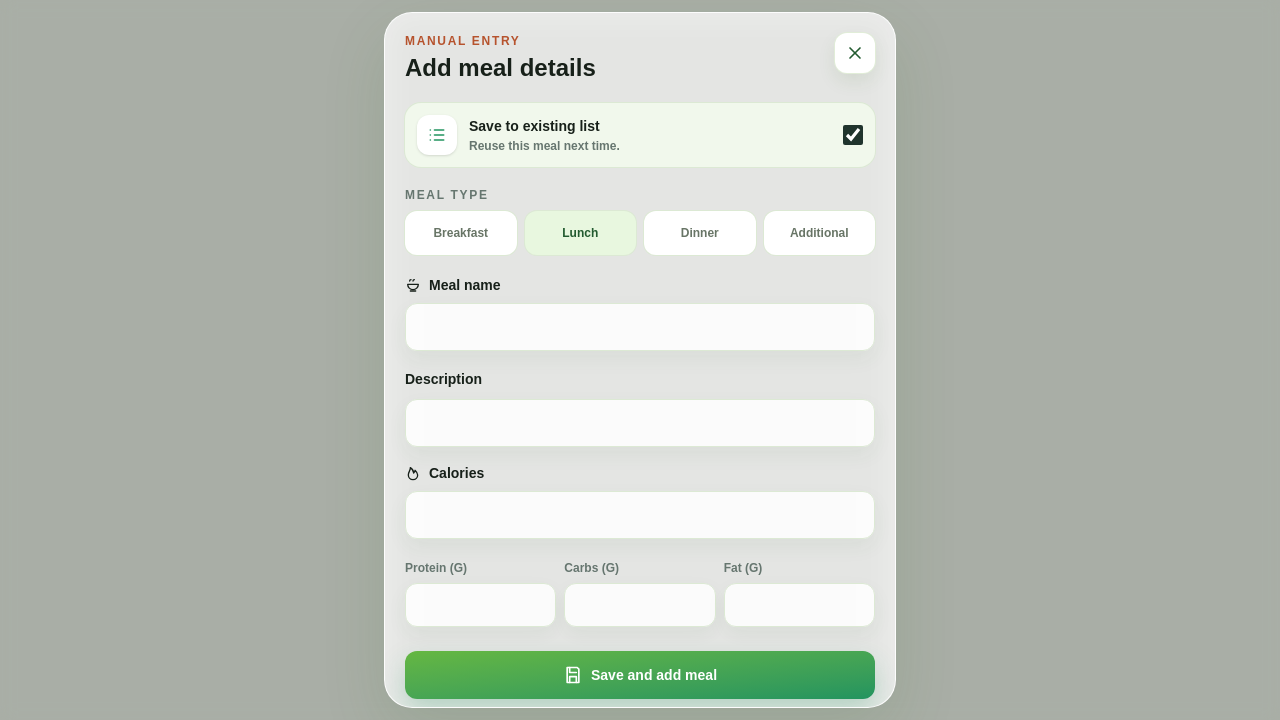
AddManualMeal › reports a partial save without attempting another daily log
Type "Chicken salad" into the field labelled "Meal name".
click(640, 327); type("Chicken salad")  # box [405,303,875,351]
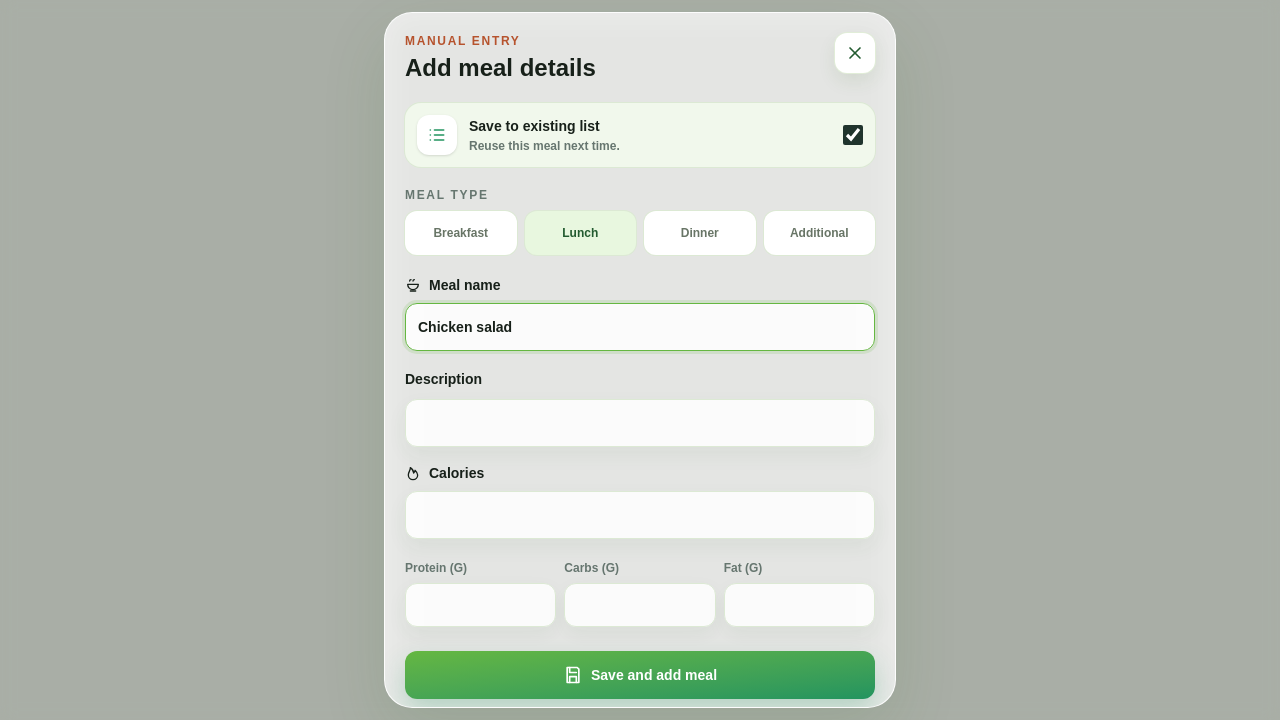
Type "380" into the number field labelled "Calories".
click(640, 515); type("380")  # box [405,491,875,539]
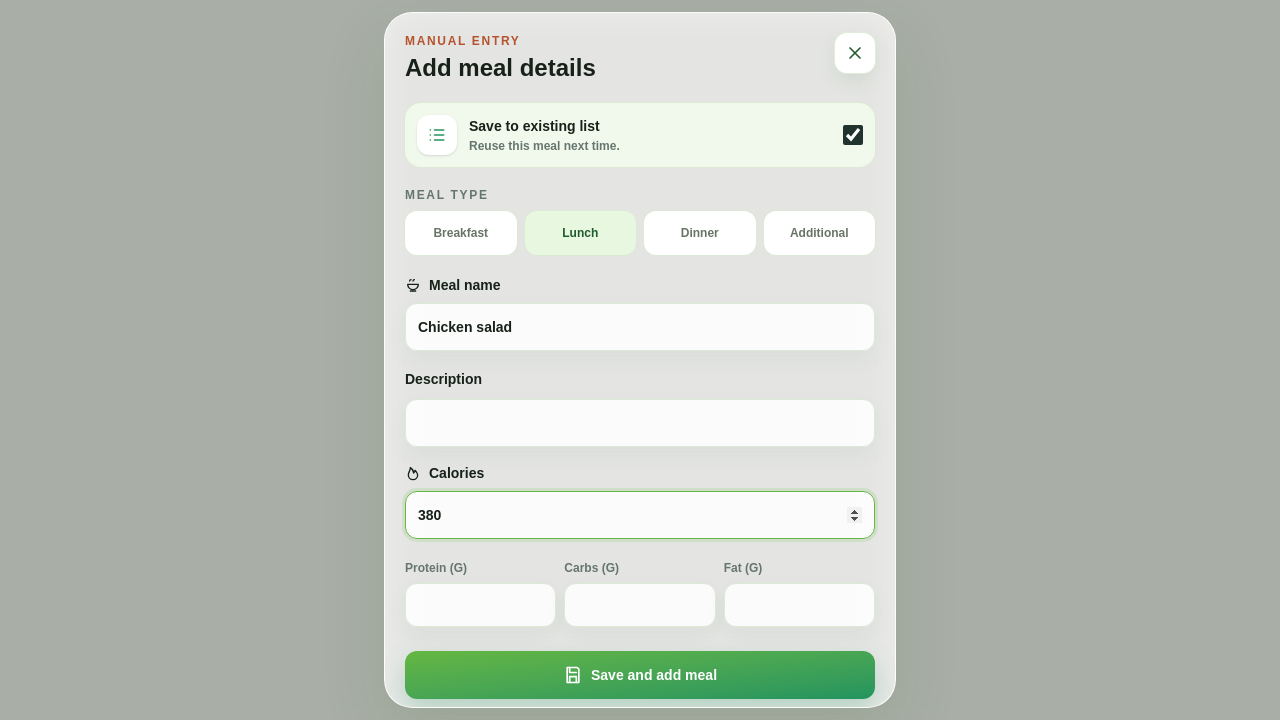
Click the button "Save and add meal".
click(640, 675)  # box [405,651,875,699]
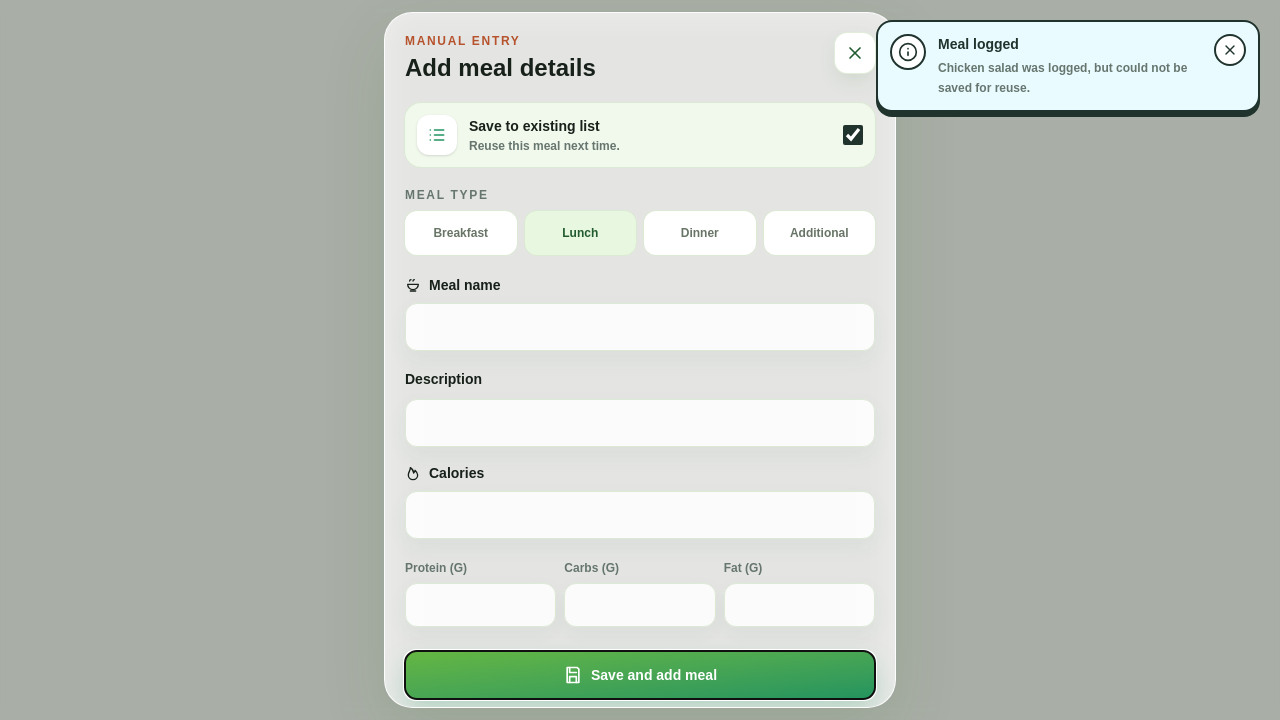
Check: the text "Chicken salad was logged, but could not be saved for reuse." is shown, box [938,58,1202,98]
